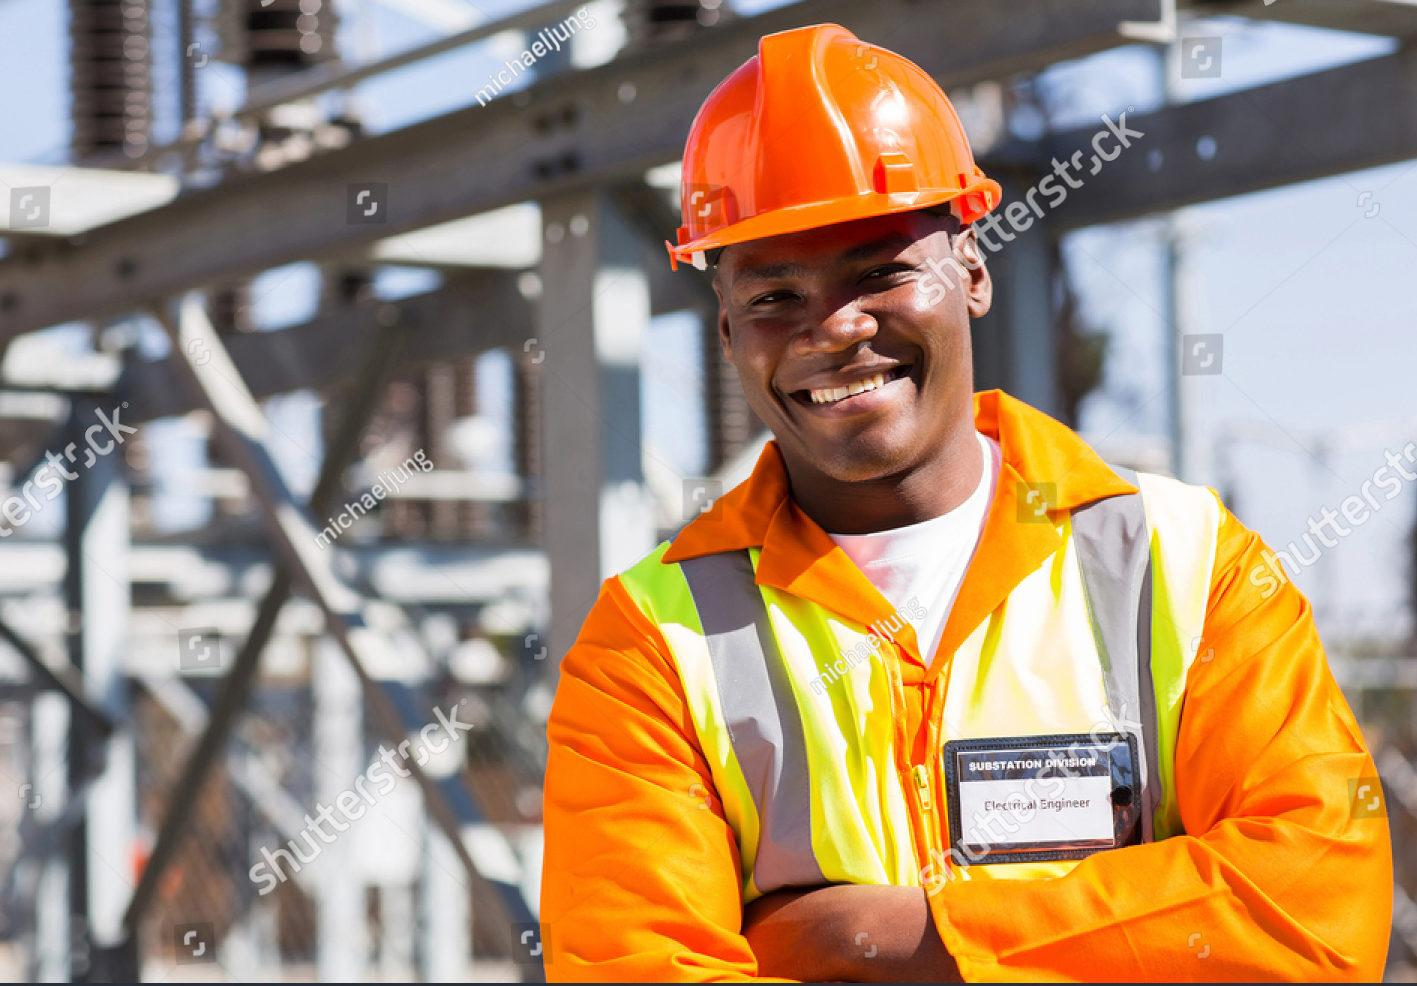helmet: (677, 31, 995, 254)
